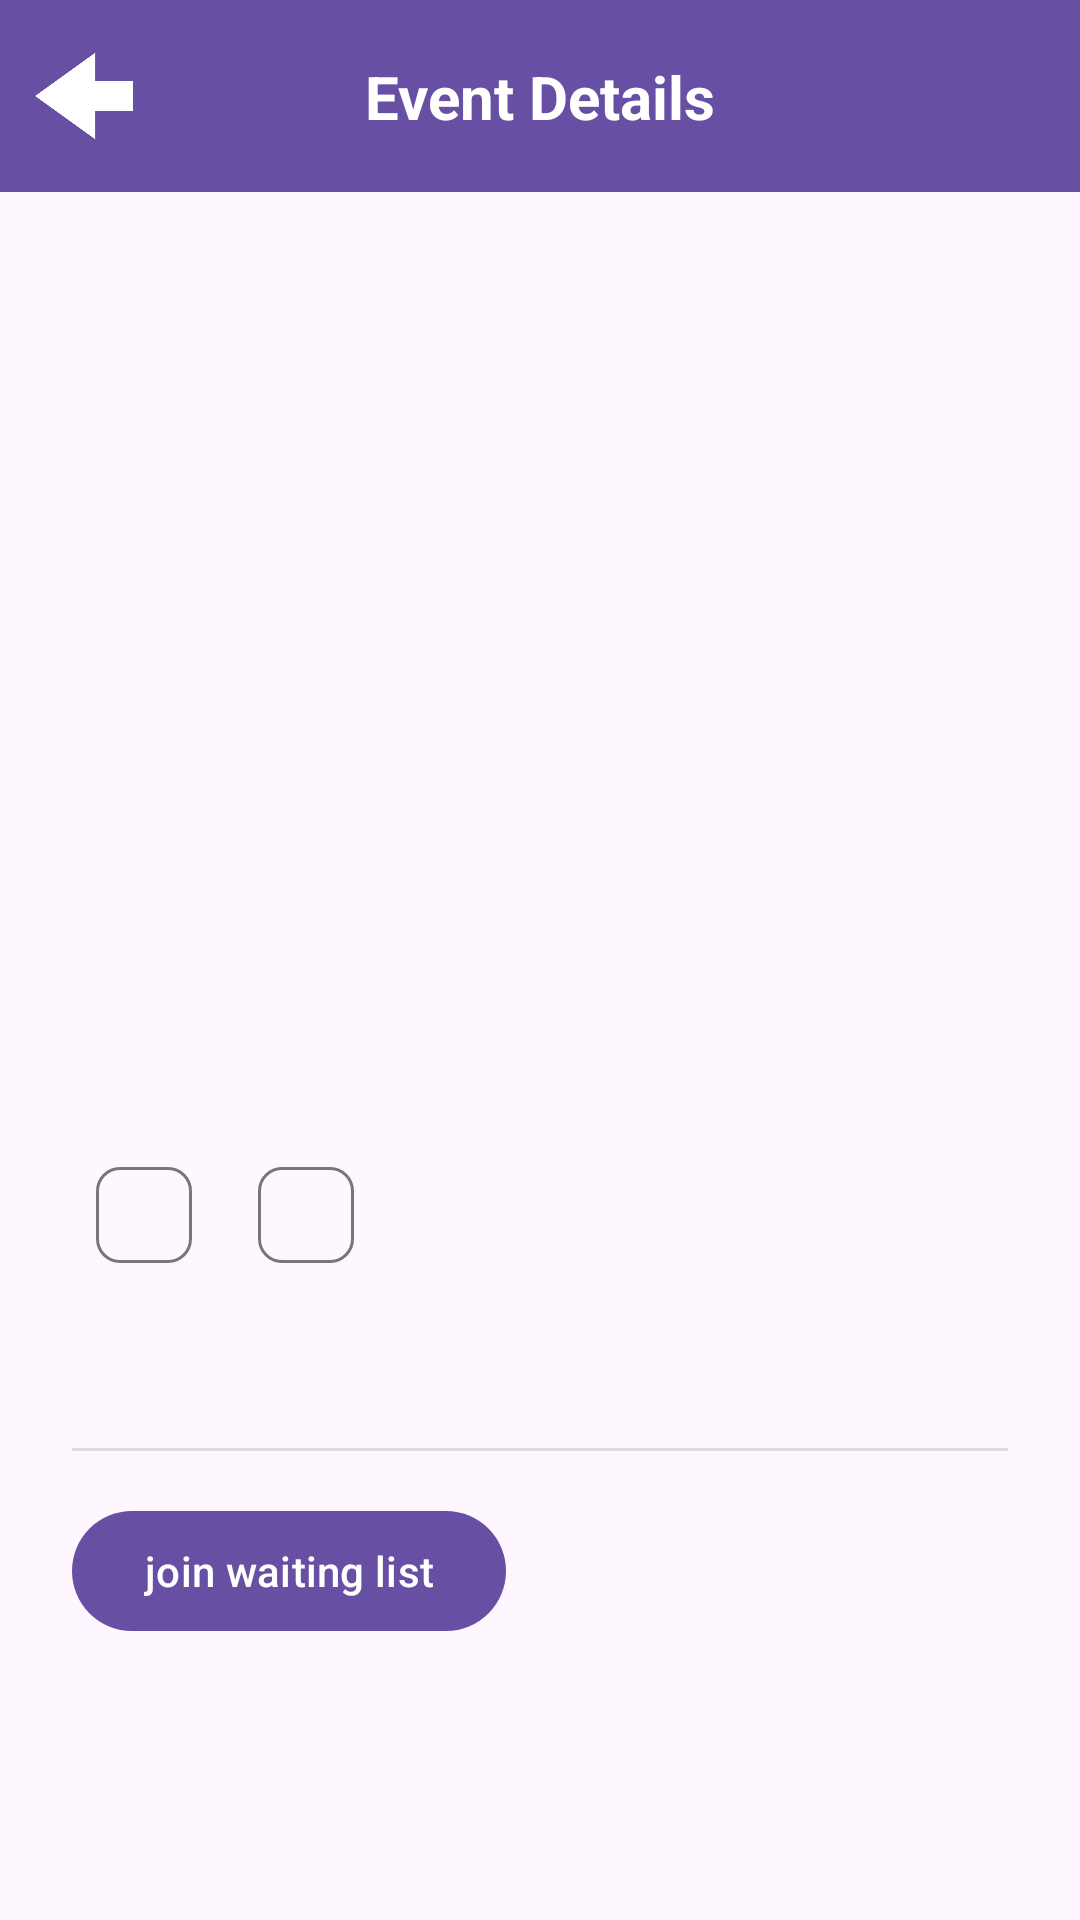

Icon bounding boxes for this 1080w x 1920h phone screenshot, format (x1, y1, x2, y2):
back: (36, 53, 133, 139)
